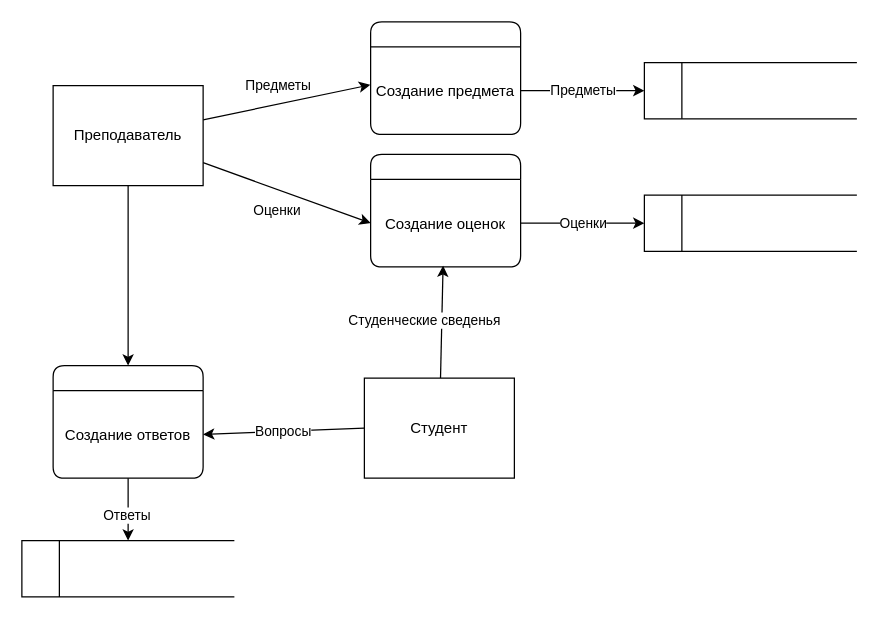
The diagram is 879 pixels wide and 619 high, and some of its shapes have lost their labels. The box of each missing label's shape, as (x1, y1, x2, y2) in pixels:
Данные о предметах: (643, 61, 857, 119)
Данные об ответах: (21, 539, 234, 597)
Данные об оценках: (643, 194, 857, 251)
